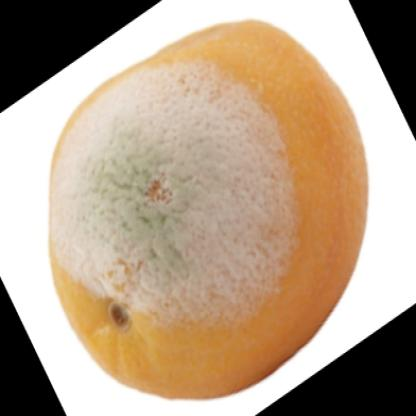rotten: (52, 21, 368, 398)
